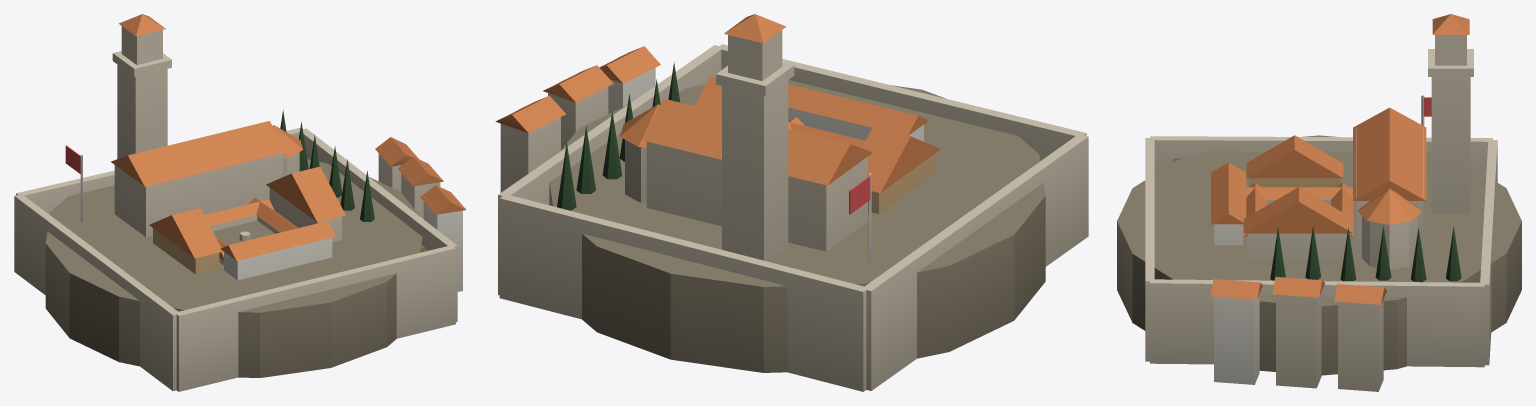
Rendered from abbey_med_a.glb.
3 renders of one model, left to right at view 1: azimuth 30°, elevation 25°; view 2: azimuth 150°, elevation 25°; view 3: azimuth 270°, elevation 25°, orthographic. The views are drawn at different scales.
Parts seen in each view (by area): view 1: abbey_med_a; view 2: abbey_med_a; view 3: abbey_med_a.
Boxes of the visible parts, x1=… form: abbey_med_a: x1=14, y1=14, x2=466, y2=391; abbey_med_a: x1=495, y1=14, x2=1088, y2=391; abbey_med_a: x1=1117, y1=14, x2=1521, y2=391.
Bounding box in the file's own units: 2.16 × 1.39 × 1.96.
